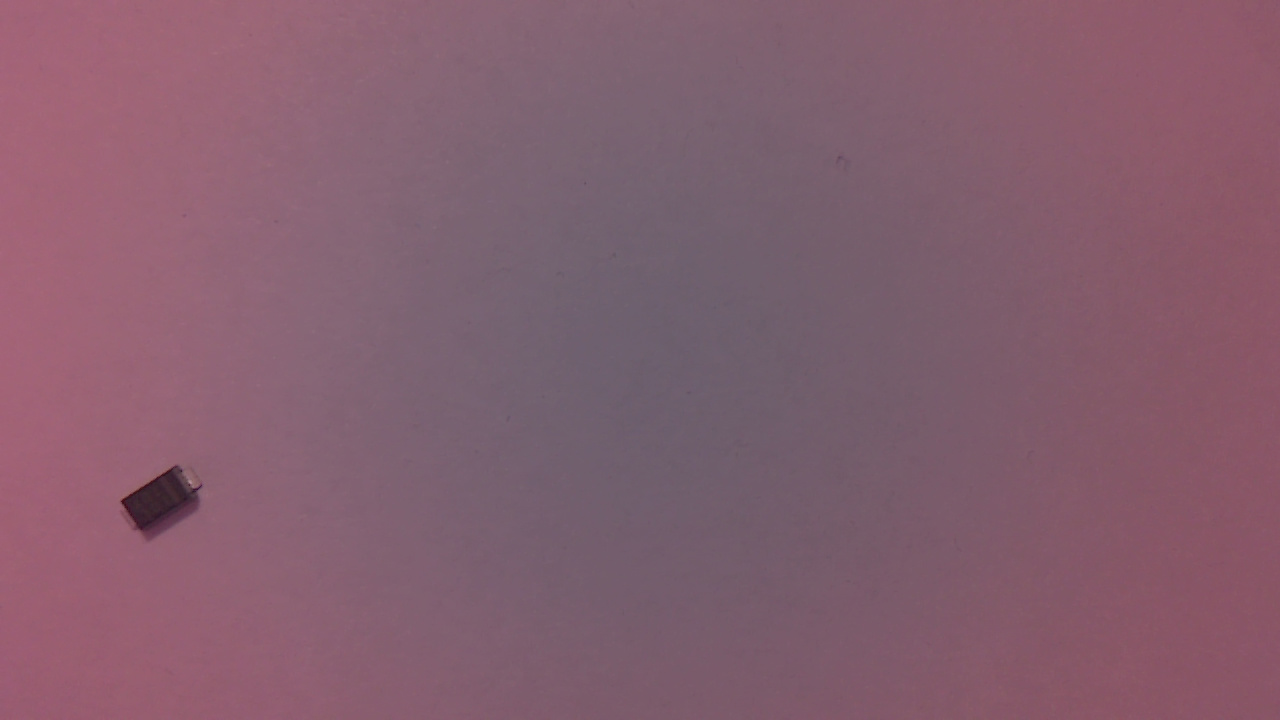Diode: (122, 464, 209, 536)
